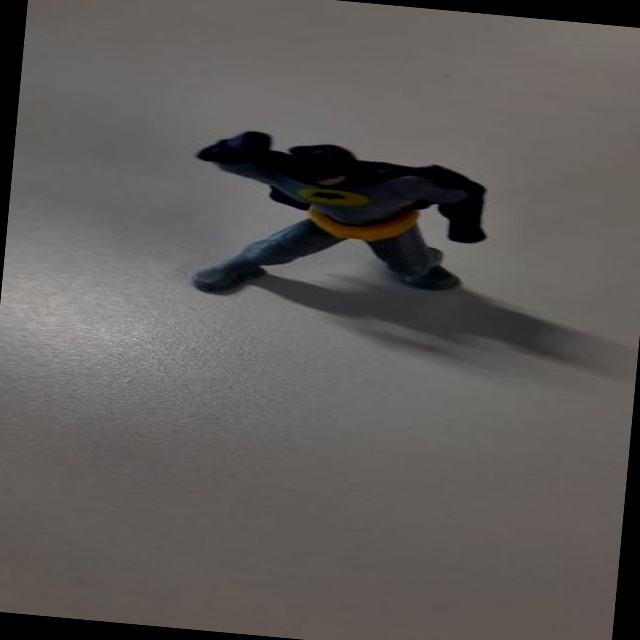Batman: (167, 119, 511, 322)
